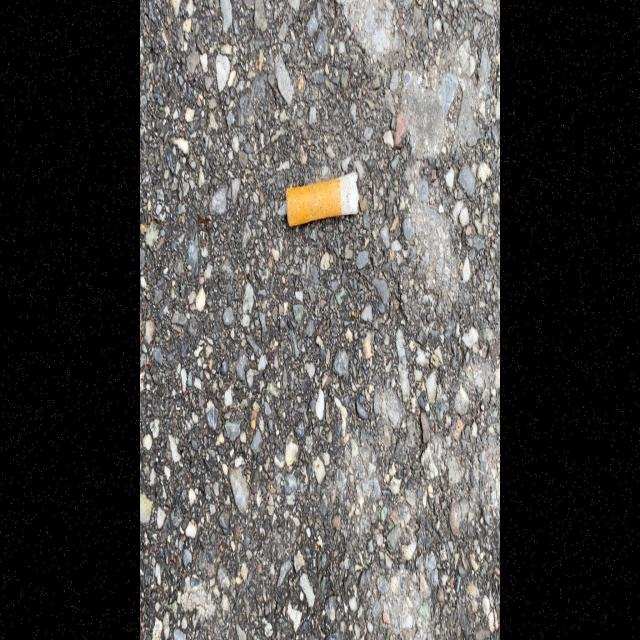other waste: (284, 170, 360, 227)
